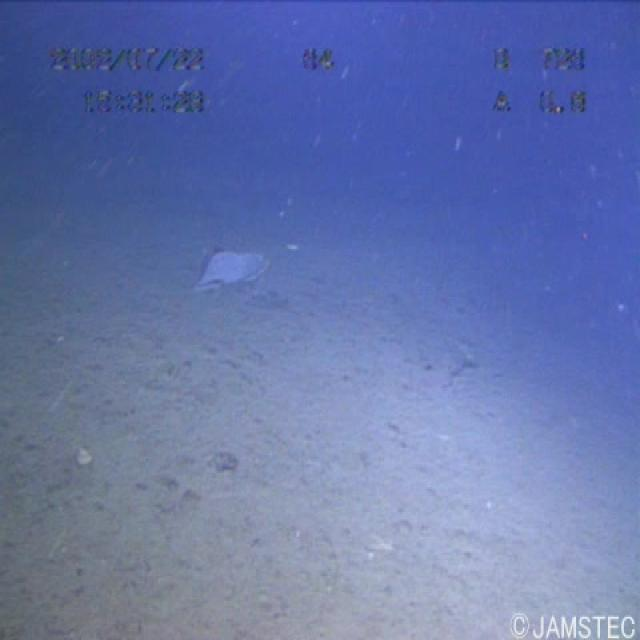plastic: (189, 233, 292, 304)
